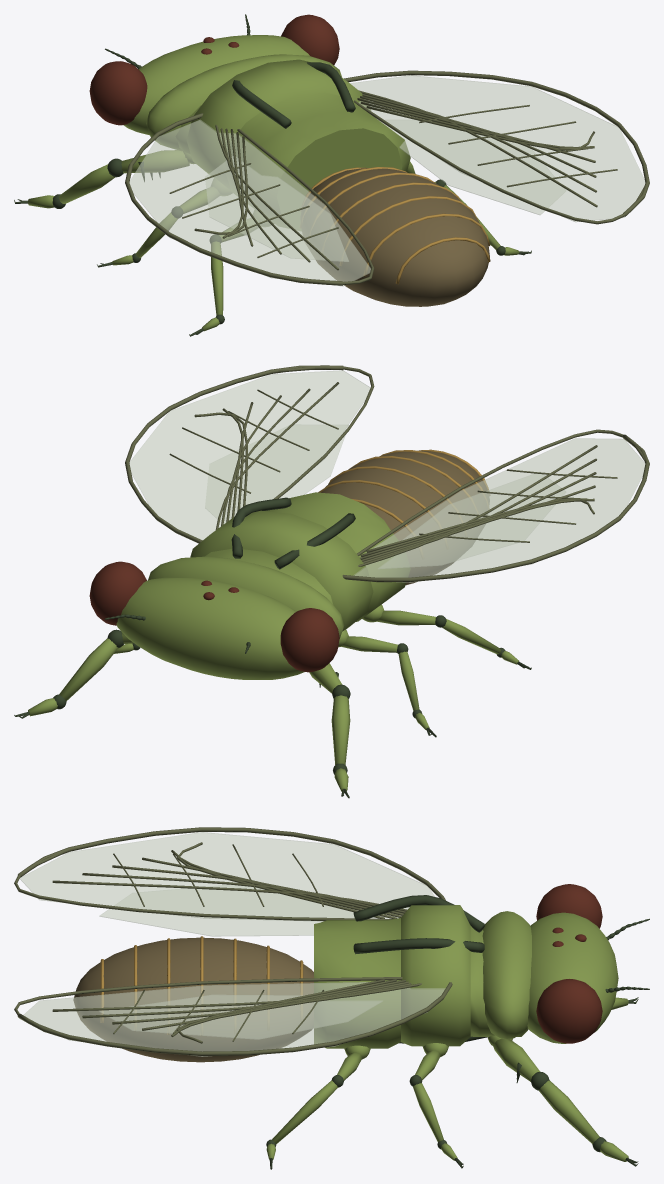
The model's file is Cicada.fbx.
The picture shows the model from 3 angles, top to bottom: view 1: azimuth 30°, elevation 25°; view 2: azimuth 150°, elevation 25°; view 3: azimuth 270°, elevation 25°; orthographic projection. The views are drawn at different scales.
Parts seen in each view (by area): view 1: Material group Cicada_WingMembrane, Material group Cicada_OliveCuticle, Material group Cicada_Abdomen, Material group Cicada_WingVein, Material group Cicada_CompoundEye, Material group Cicada_OchreEdge, Material group Cicada_DarkSutures; view 2: Material group Cicada_WingMembrane, Material group Cicada_OliveCuticle, Material group Cicada_WingVein, Material group Cicada_Abdomen, Material group Cicada_CompoundEye, Material group Cicada_DarkSutures, Material group Cicada_OchreEdge; view 3: Material group Cicada_WingMembrane, Material group Cicada_OliveCuticle, Material group Cicada_Abdomen, Material group Cicada_WingVein, Material group Cicada_CompoundEye, Material group Cicada_DarkSutures, Material group Cicada_OchreEdge.
Part boxes in pixels (bbox=[...]): Material group Cicada_WingMembrane: bbox=[129, 75, 645, 286]; Material group Cicada_OliveCuticle: bbox=[28, 35, 519, 331]; Material group Cicada_Abdomen: bbox=[301, 168, 489, 306]; Material group Cicada_WingVein: bbox=[125, 70, 649, 285]; Material group Cicada_CompoundEye: bbox=[89, 14, 339, 125]; Material group Cicada_OchreEdge: bbox=[300, 167, 490, 284]; Material group Cicada_DarkSutures: bbox=[14, 14, 531, 336]; Material group Cicada_WingMembrane: bbox=[129, 370, 645, 582]; Material group Cicada_OliveCuticle: bbox=[28, 492, 519, 791]; Material group Cicada_WingVein: bbox=[125, 365, 649, 582]; Material group Cicada_Abdomen: bbox=[321, 450, 489, 585]; Material group Cicada_CompoundEye: bbox=[89, 561, 339, 672]; Material group Cicada_DarkSutures: bbox=[14, 497, 531, 798]; Material group Cicada_OchreEdge: bbox=[318, 449, 489, 558]; Material group Cicada_WingMembrane: bbox=[20, 832, 445, 1056]; Material group Cicada_OliveCuticle: bbox=[266, 905, 628, 1161]; Material group Cicada_Abdomen: bbox=[73, 937, 313, 1062]; Material group Cicada_WingVein: bbox=[14, 827, 452, 1055]; Material group Cicada_CompoundEye: bbox=[536, 884, 602, 1043]; Material group Cicada_DarkSutures: bbox=[266, 895, 649, 1169]; Material group Cicada_OchreEdge: bbox=[100, 936, 303, 1035].
Size of the model in its own units: 0.8417 by 0.2922 by 1.
